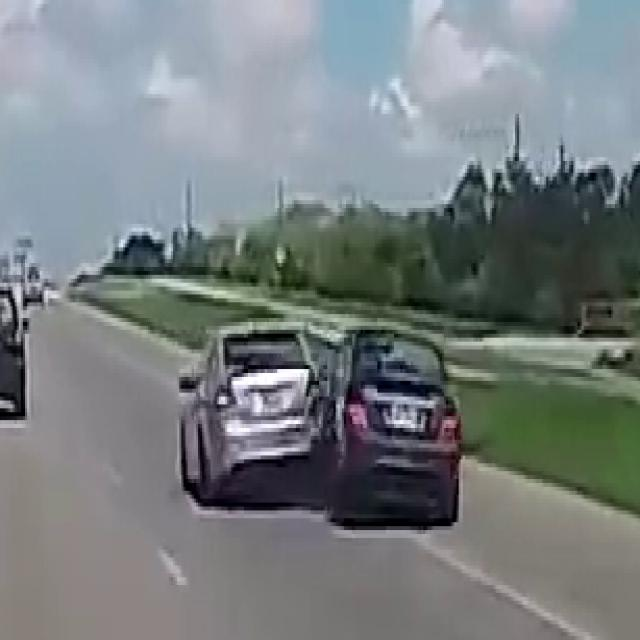accident: (170, 311, 469, 528)
